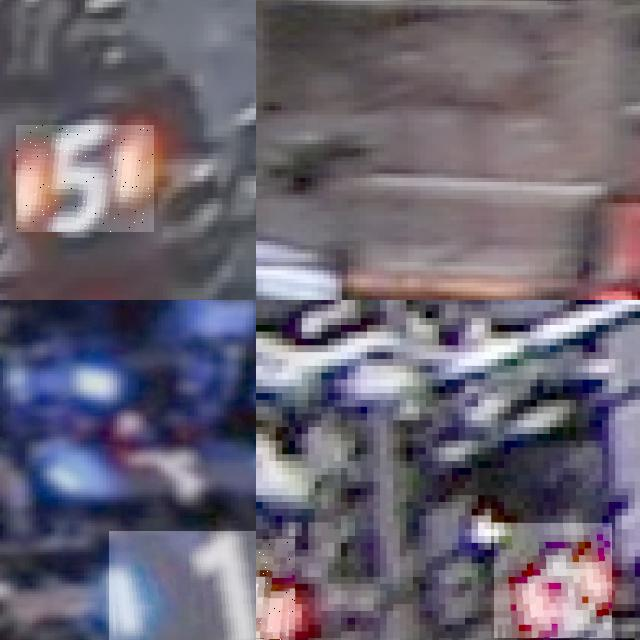B1: (109, 531, 256, 640)
R2: (494, 523, 612, 638), (256, 539, 295, 640)
R5: (16, 125, 154, 232)
